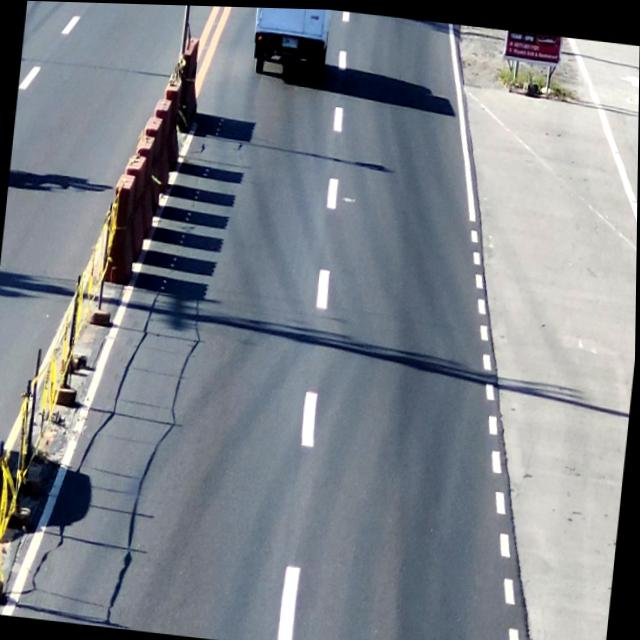Car: (245, 6, 337, 90)
License-Plate: (279, 33, 302, 50)
